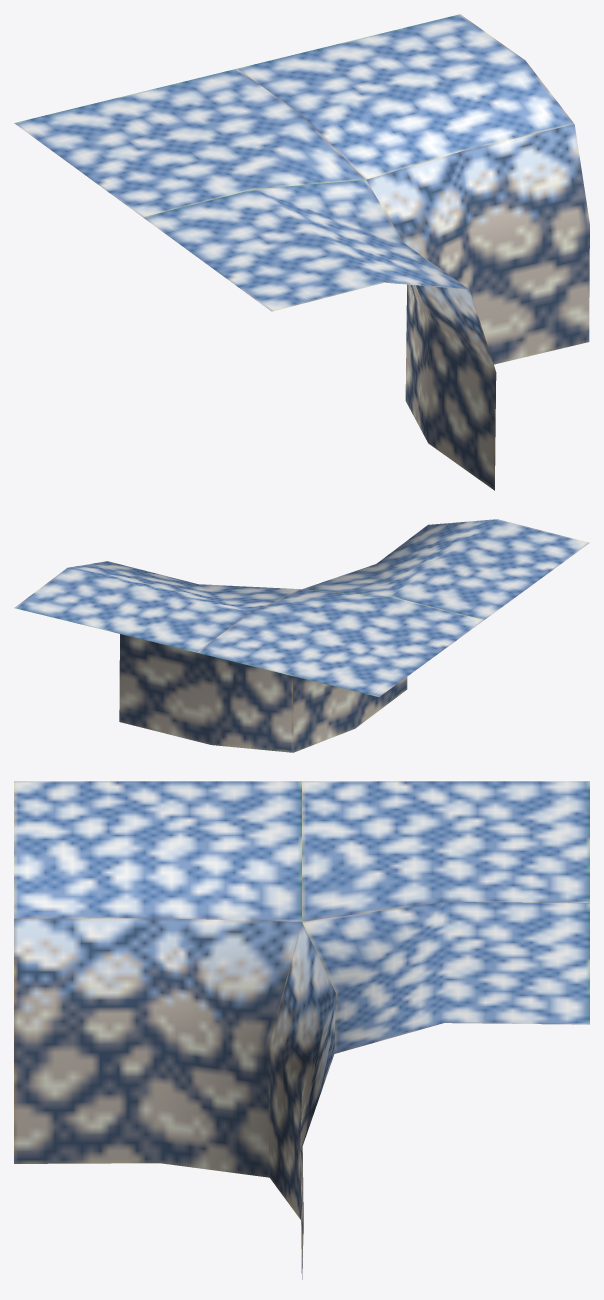
Rendered from snowCTile_innerCorner_upperLeft.fbx.
The picture shows the model from 3 angles, top to bottom: view 1: azimuth 30°, elevation 25°; view 2: azimuth 150°, elevation 25°; view 3: azimuth 270°, elevation 25°; orthographic projection. The views are drawn at different scales.
Parts seen in each view (by area): view 1: snowCTile_innerCorner_upperLeft; view 2: snowCTile_innerCorner_upperLeft; view 3: snowCTile_innerCorner_upperLeft.
Part boxes in pixels (x1=…): snowCTile_innerCorner_upperLeft: x1=14, y1=14, x2=589, y2=490; snowCTile_innerCorner_upperLeft: x1=14, y1=519, x2=589, y2=752; snowCTile_innerCorner_upperLeft: x1=14, y1=781, x2=589, y2=1279.
Size of the model in its own units: 2 by 1.01 by 2.
